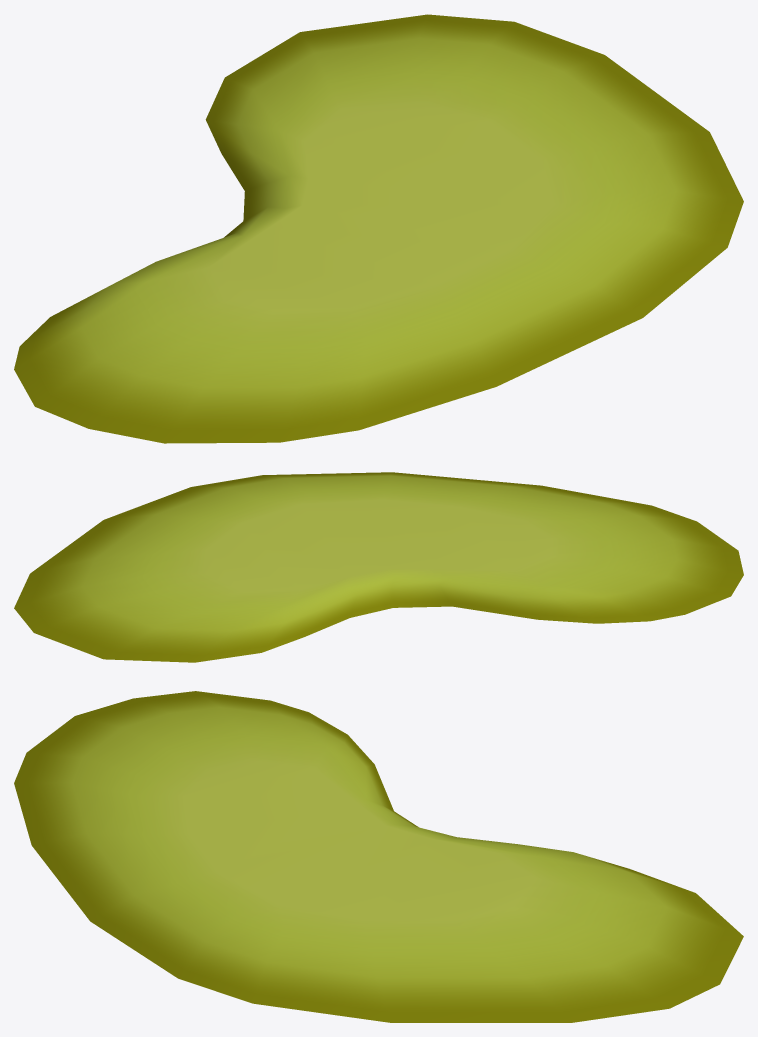
Rendered from grassTop_E.fbx.
The picture shows the model from 3 angles, top to bottom: view 1: azimuth 30°, elevation 25°; view 2: azimuth 150°, elevation 25°; view 3: azimuth 270°, elevation 25°; orthographic projection. The views are drawn at different scales.
Visible parts, largest first — view 1: grassTop_E; view 2: grassTop_E; view 3: grassTop_E.
Part boxes in pixels (x1,y1,x2,y2): grassTop_E: (14,14,743,443); grassTop_E: (14,472,743,662); grassTop_E: (14,691,743,1022).
Bounding box in the file's own units: 4298 × 150 × 3995.
